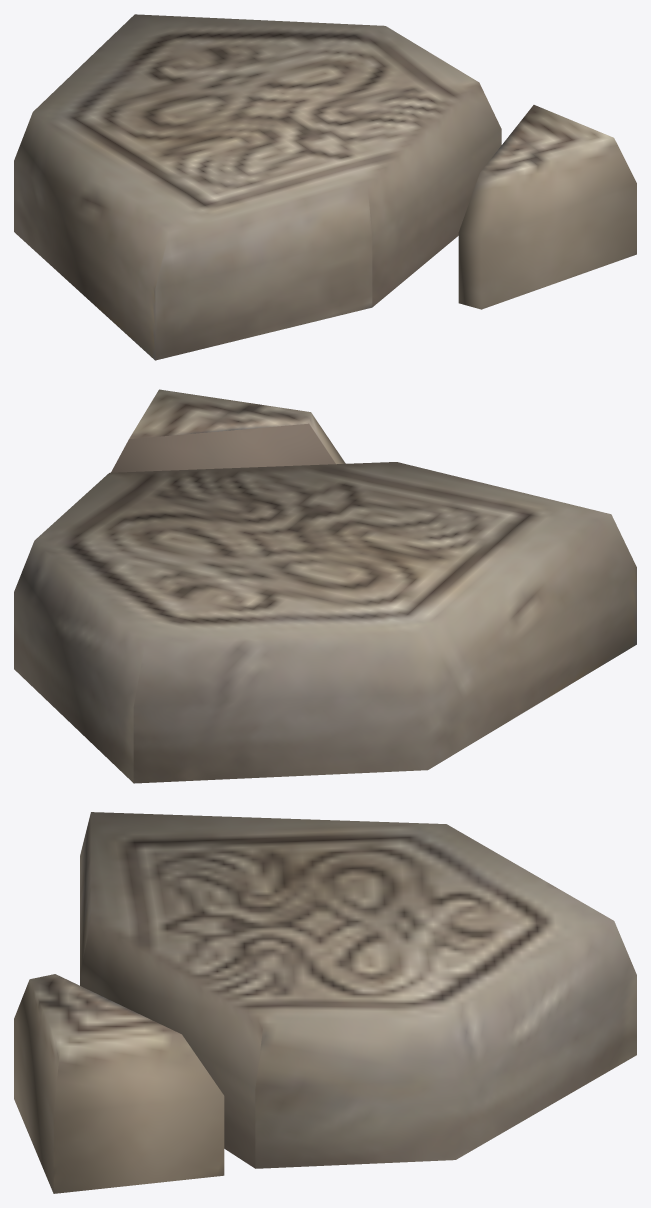
Rendered from dump_monstone.FBX.
3 renders of one model, top to bottom at view 1: azimuth 30°, elevation 25°; view 2: azimuth 150°, elevation 25°; view 3: azimuth 270°, elevation 25°, orthographic. The views are drawn at different scales.
Parts seen in each view (by area): view 1: Object019; view 2: Object019; view 3: Object019.
Part boxes in pixels (box(x1,y1,x2,y2)): Object019: box(14, 14, 636, 360); Object019: box(14, 389, 636, 783); Object019: box(14, 812, 636, 1193).
Size of the model in its own units: 0.5255 by 0.1275 by 0.5364.
